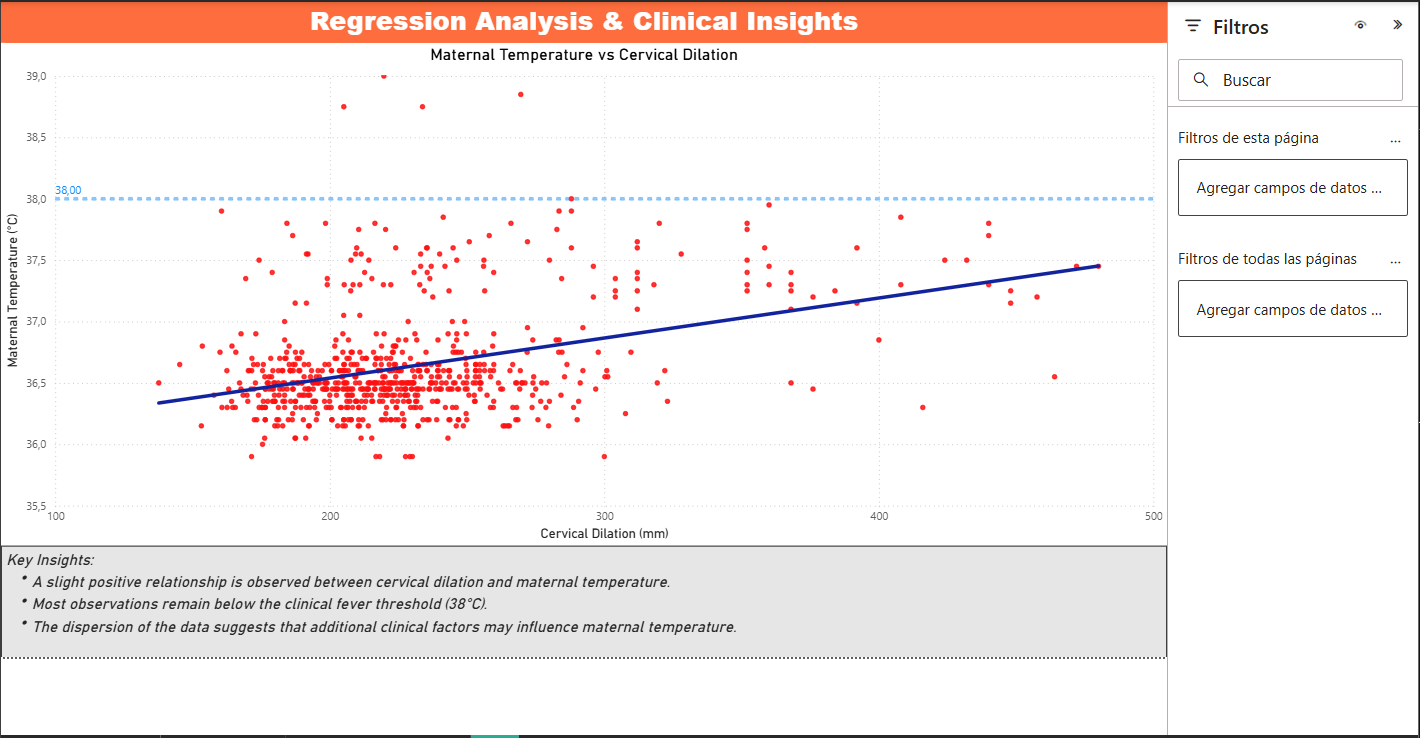

What the dashboard file says about the page in this screenshot:
{"tool":"powerbi","page":{"name":"Regression Analysis","canvas":[1280,720],"ordinal":1},"visuals":[{"type":"scatterChart","title":"Maternal Temperature vs Cervical Dilation","fields":{"X":["Sheet1.Cervical_Dilation"],"Y":["Sheet1.Average_Temperature"]},"box":[0,46.7,1280.3,550.3],"z":0},{"type":"textbox","box":[0,596.9,1280.3,123.5],"z":1000},{"type":"textbox","title":"Regression Analysis & Clinical Insights","box":[0,0,1280.3,46.7],"z":2000}]}

Visuals, with their boxes on the page's 1280x720 design canvas (x1, y1, x2, y2). These are canvas units, not pixel positions in the 1420x738 screenshot, which may show the page scaled, cropped or inside an application window:
"Maternal Temperature vs Cervical Dilation" scatterChart: locate(0, 47, 1280, 597)
textbox: locate(0, 597, 1280, 720)
"Regression Analysis & Clinical Insights" textbox: locate(0, 0, 1280, 47)
